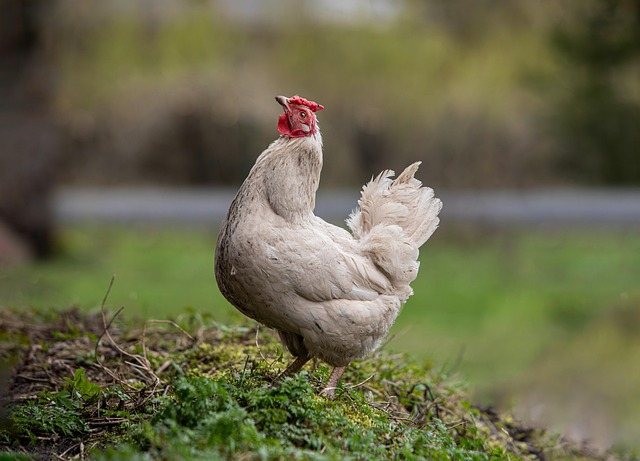chicken: (215, 90, 442, 422)
